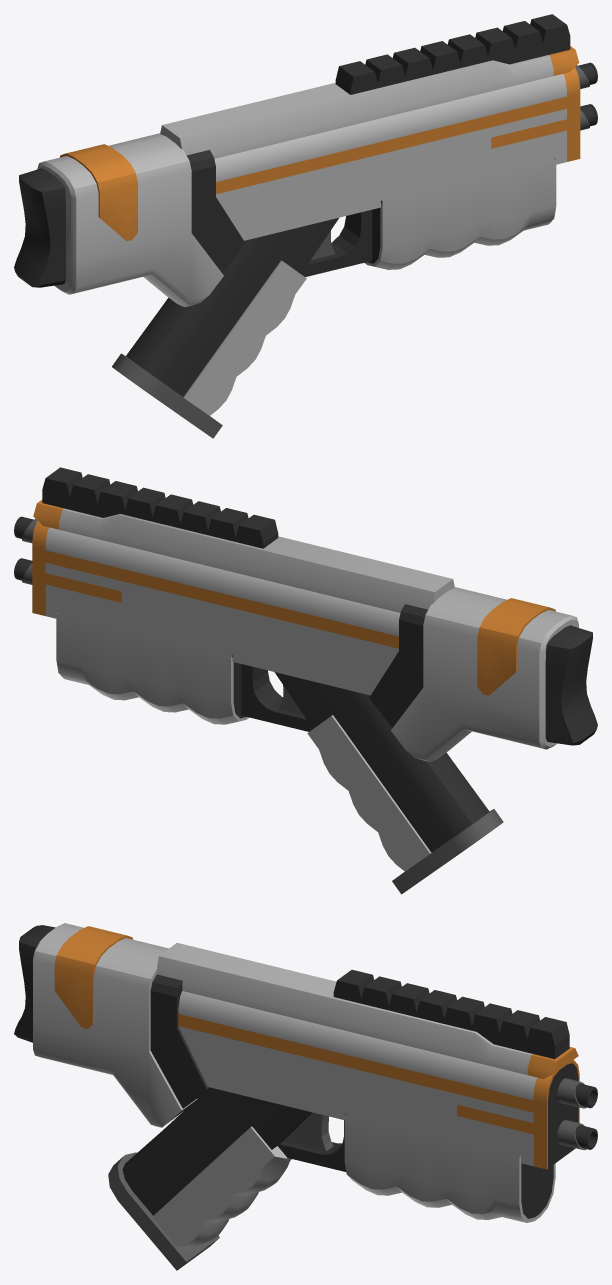
Rendered from Pistol_3.glb.
3 renders of one model, top to bottom at view 1: azimuth 30°, elevation 25°; view 2: azimuth 150°, elevation 25°; view 3: azimuth 330°, elevation 25°, orthographic.
Parts seen in each view (by area): view 1: Pistol_3; view 2: Pistol_3; view 3: Pistol_3.
Boxes of the visible parts, left/top/right/bottom form: Pistol_3: left=14, top=14, right=597, bottom=438; Pistol_3: left=14, top=467, right=597, bottom=894; Pistol_3: left=14, top=923, right=597, bottom=1270.
Bounding box in the file's own units: 0.9094 × 0.4863 × 0.114.
